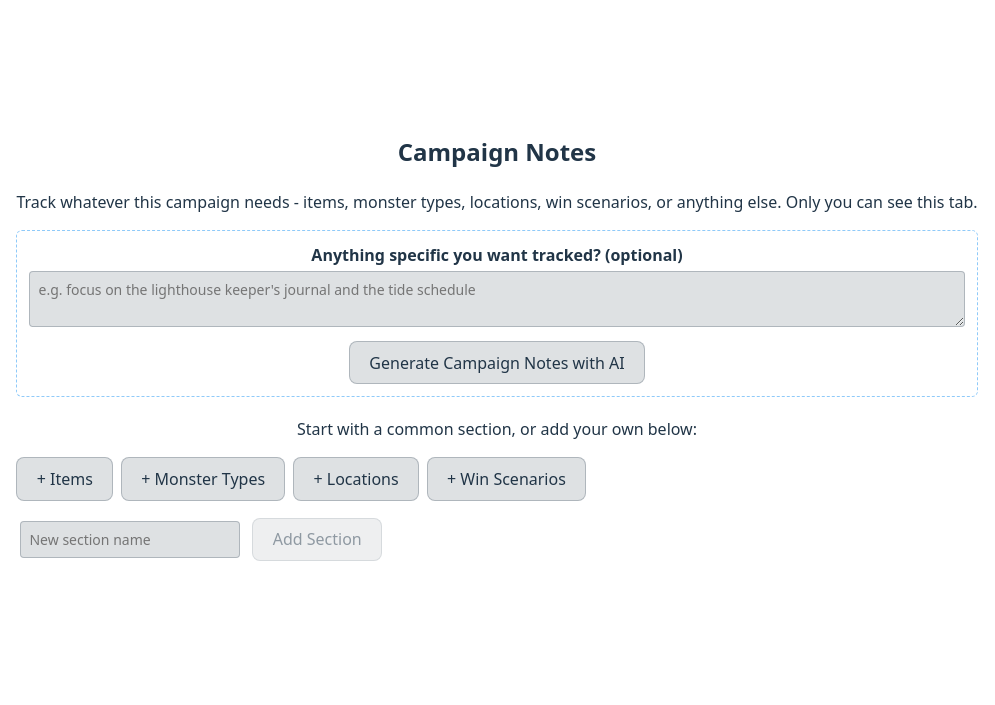
Scenario: CampaignNotes › lets a follow-up refine the drafted batch
Click the button "Generate Campaign Notes with AI" at (497, 363), box [349,341,645,384]
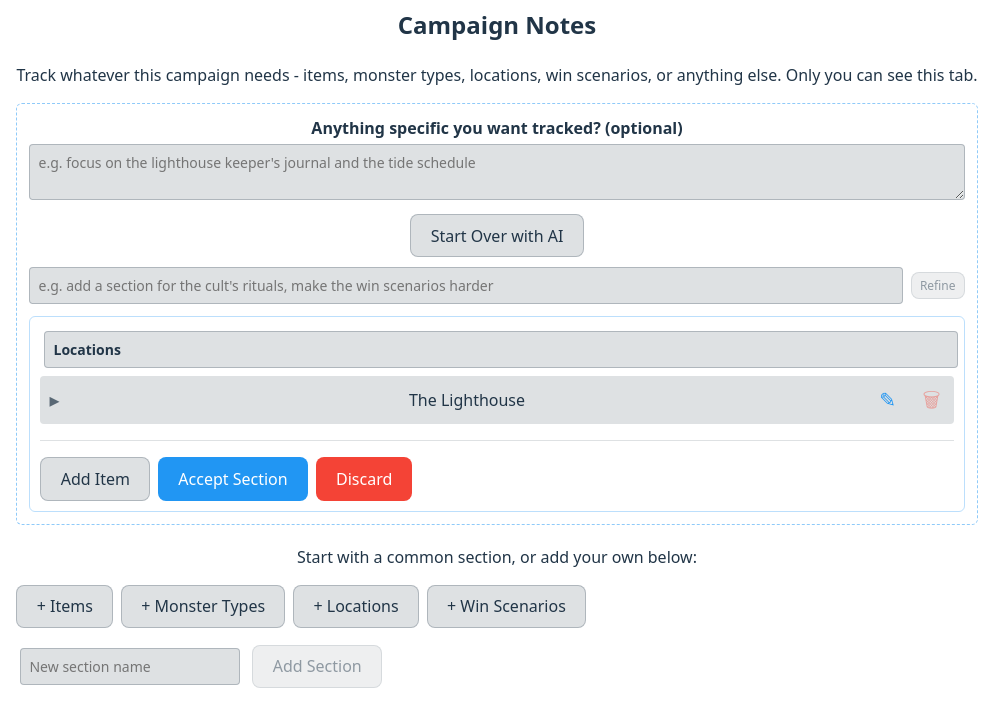
Expected: the text "The Lighthouse" is shown, [409,389,525,411]
Type "add the basement" into the field with placeholder "cult's rituals" at (466, 286), box [30,267,903,304]
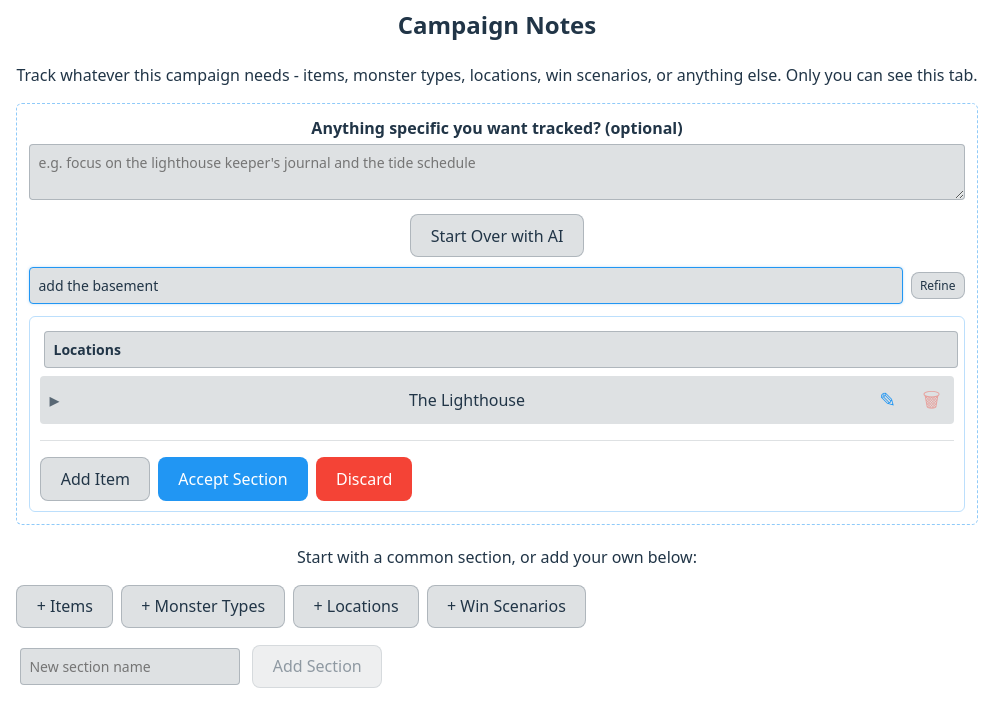
Click the button "Refine" at (938, 286), box [911,272,964,299]
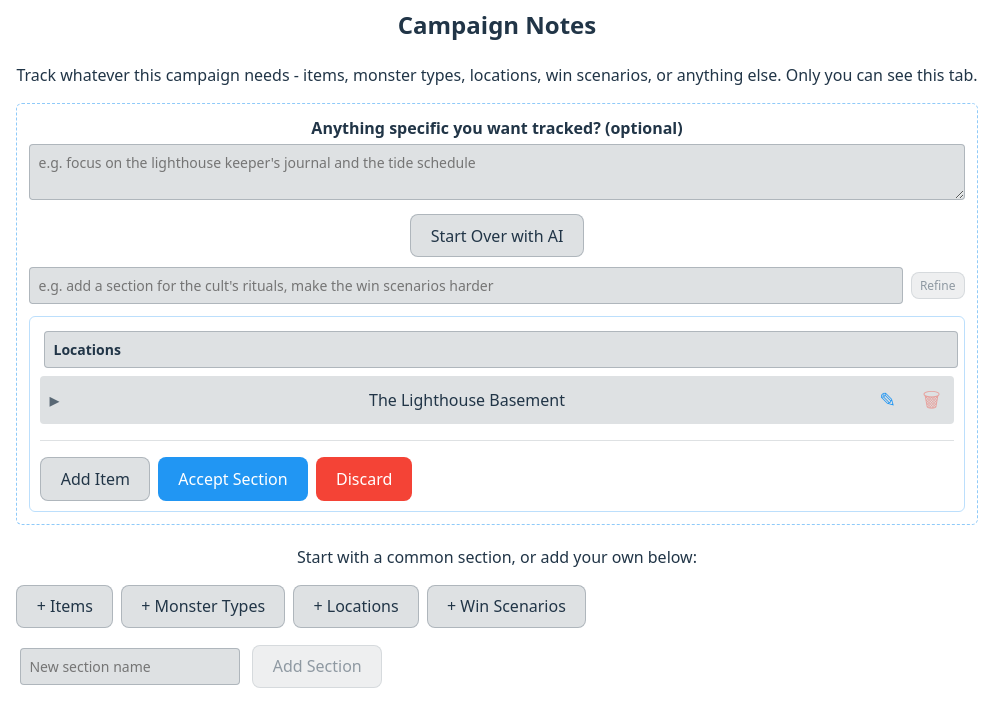
Expected: the text "The Lighthouse Basement" is shown, [369,389,565,411]
